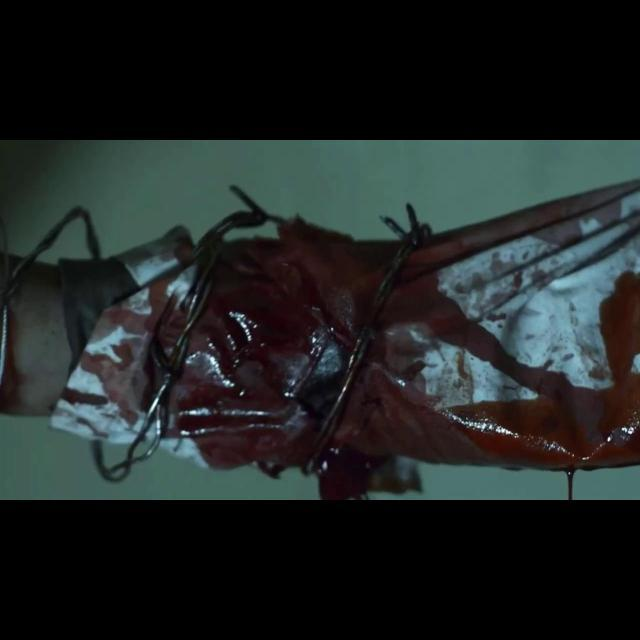blood: (50, 179, 640, 500)
